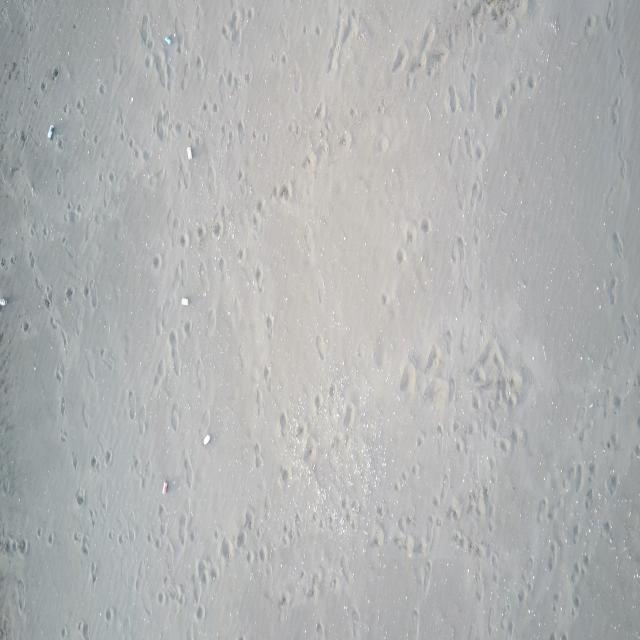tin-and-aluminum-cans: (46, 123, 54, 142), (161, 481, 169, 495), (186, 144, 193, 160), (203, 433, 211, 446), (182, 296, 190, 308), (164, 35, 172, 45), (0, 297, 8, 307)
